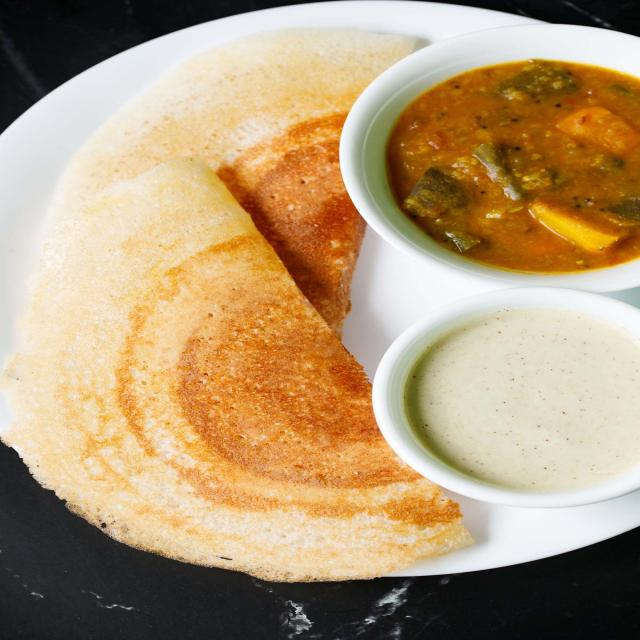chutney: (383, 282, 638, 488)
dosa: (8, 160, 498, 580), (0, 24, 420, 462)
